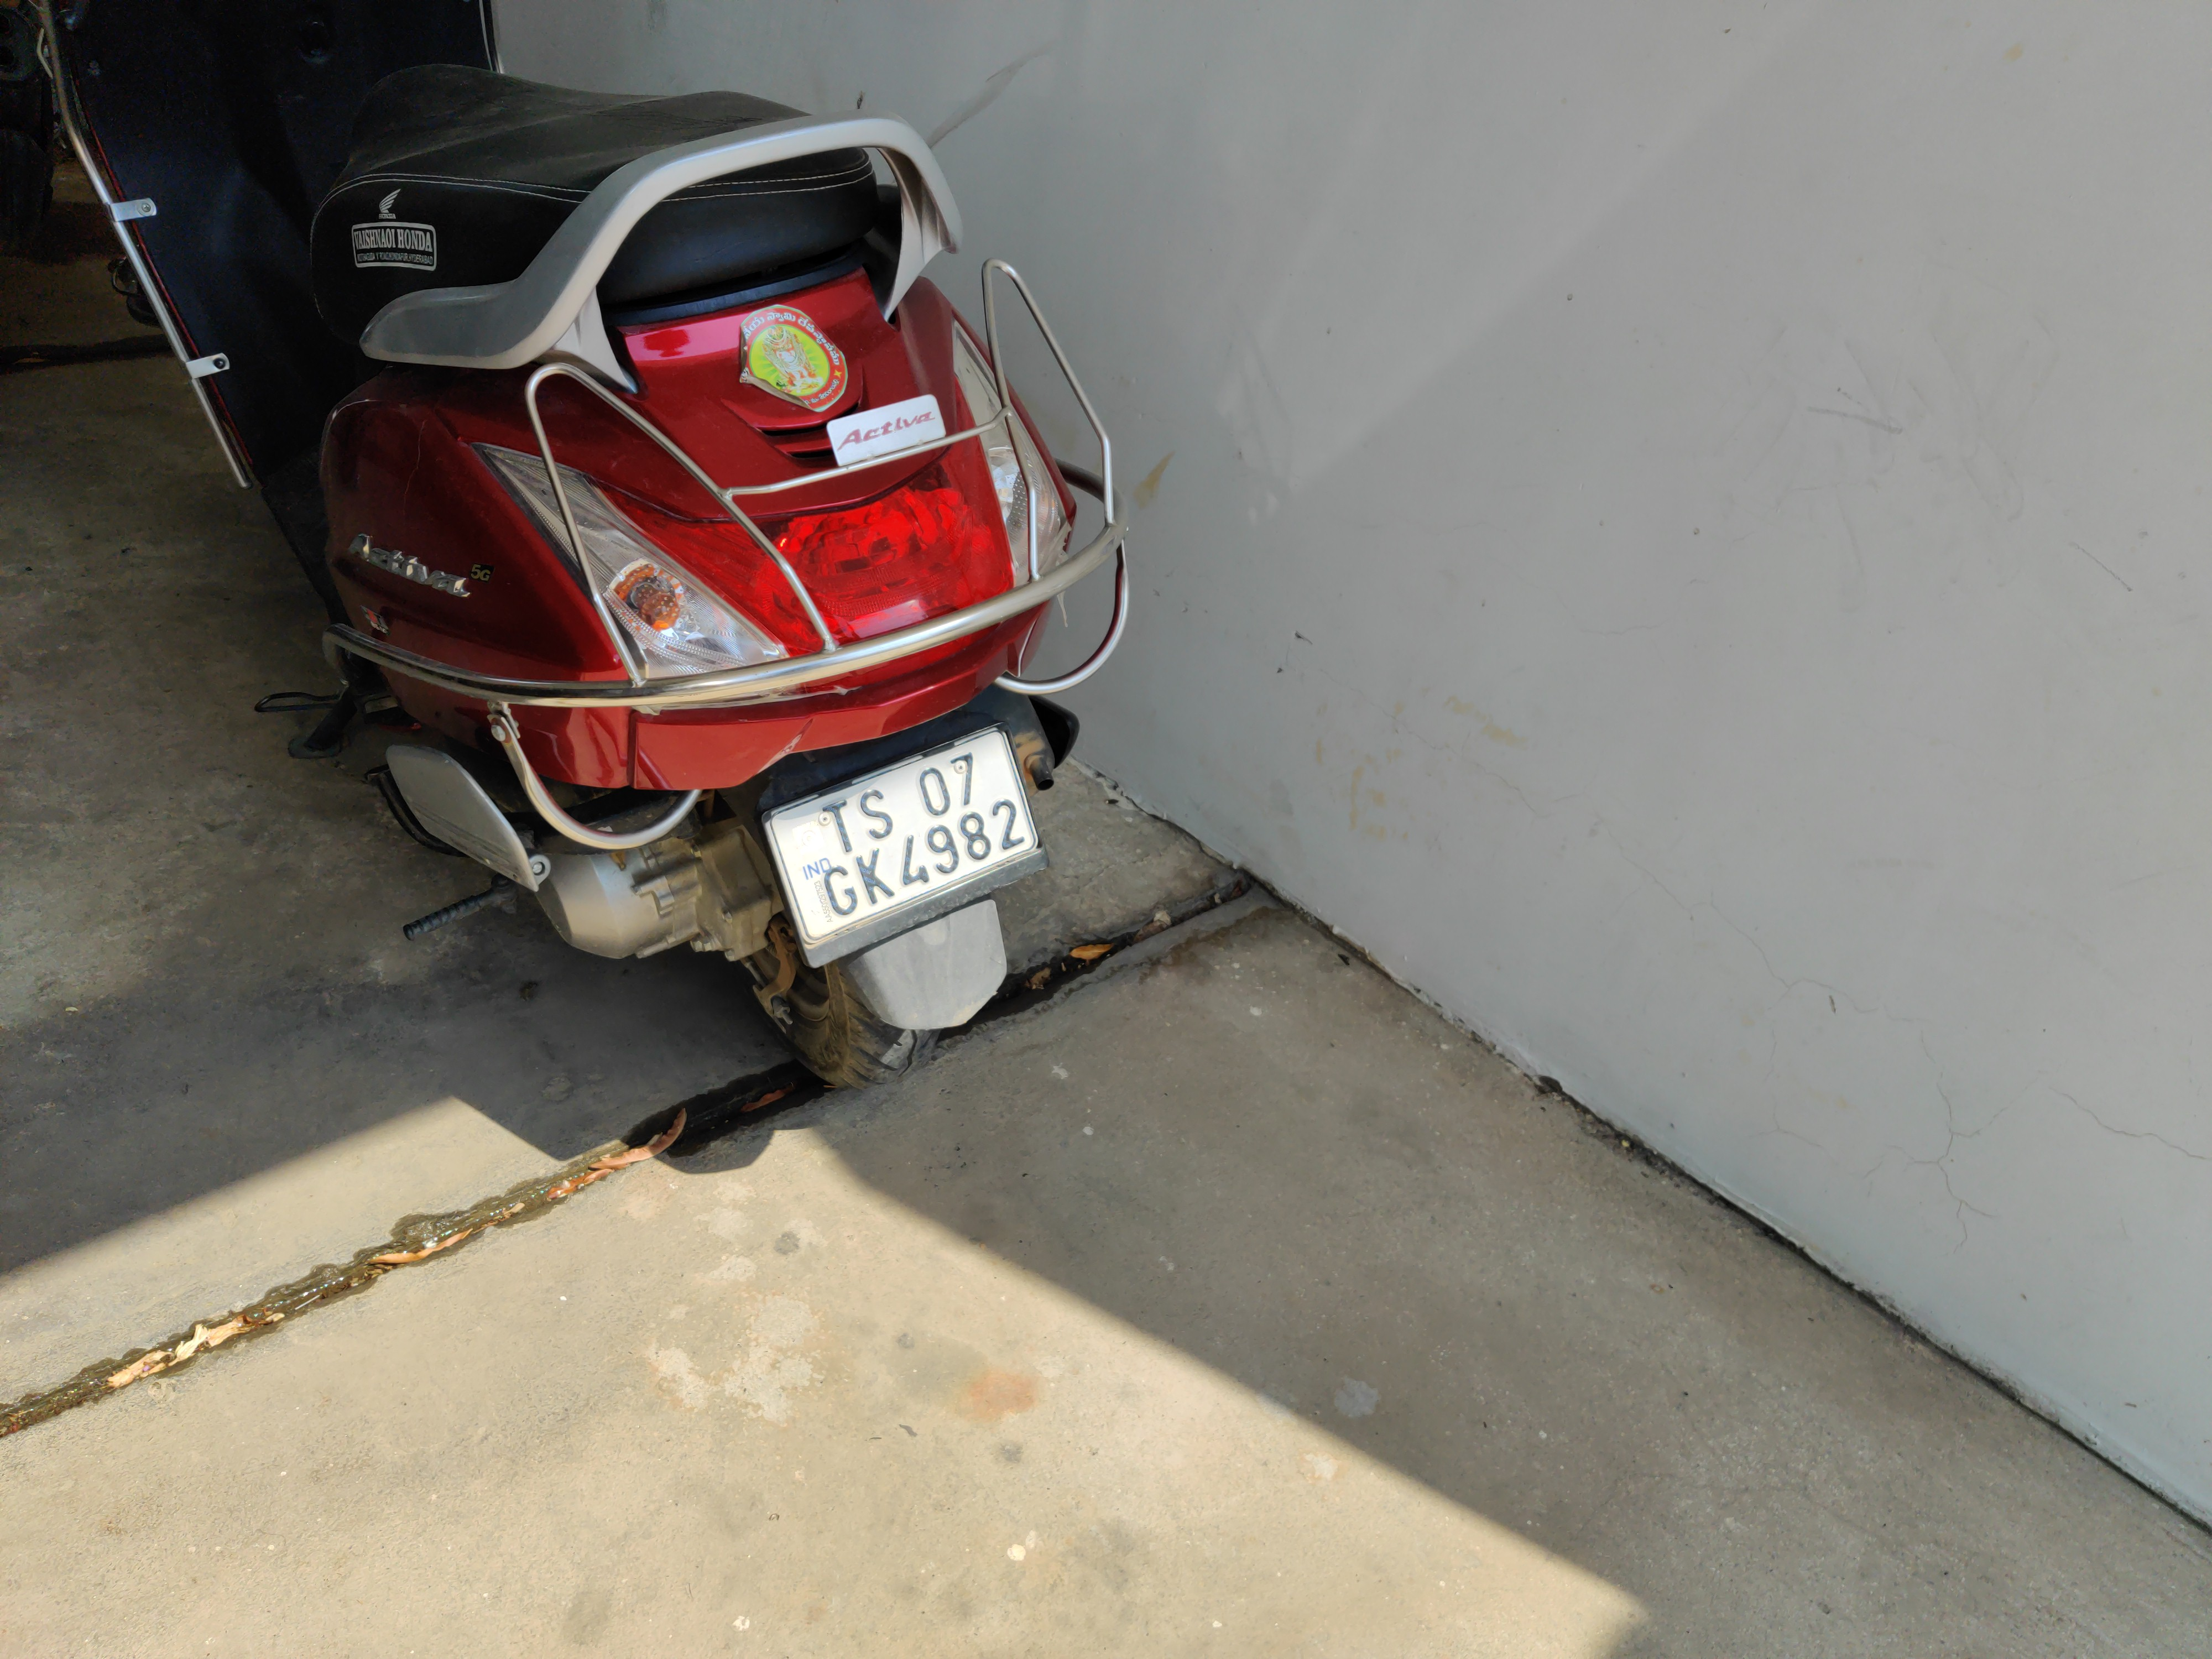plate: (723, 712, 1065, 959)
